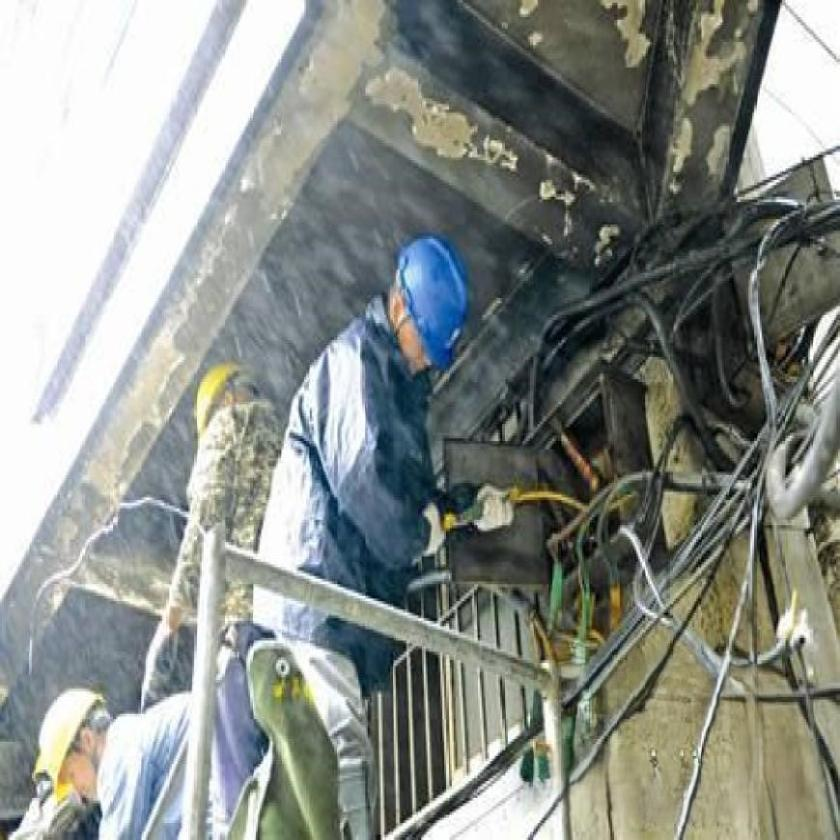Con_casco: (373, 222, 484, 386), (22, 678, 113, 801)
